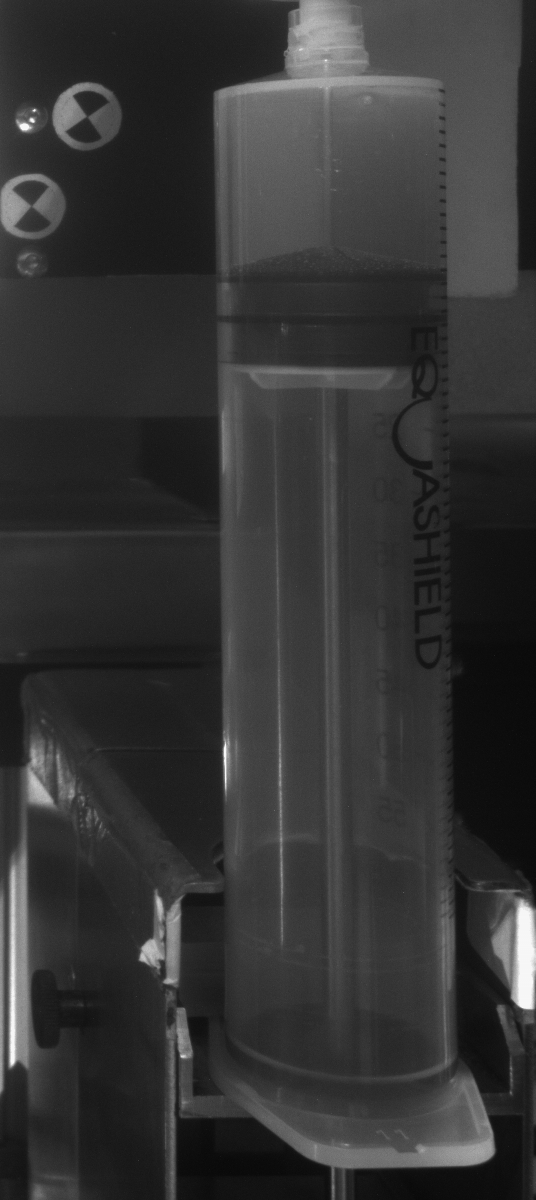piston: (214, 280, 451, 395)
